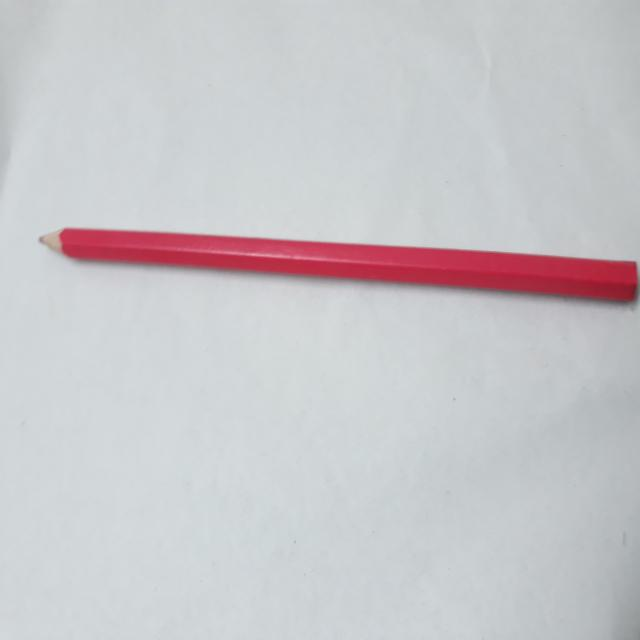pencil: (30, 219, 640, 325)
